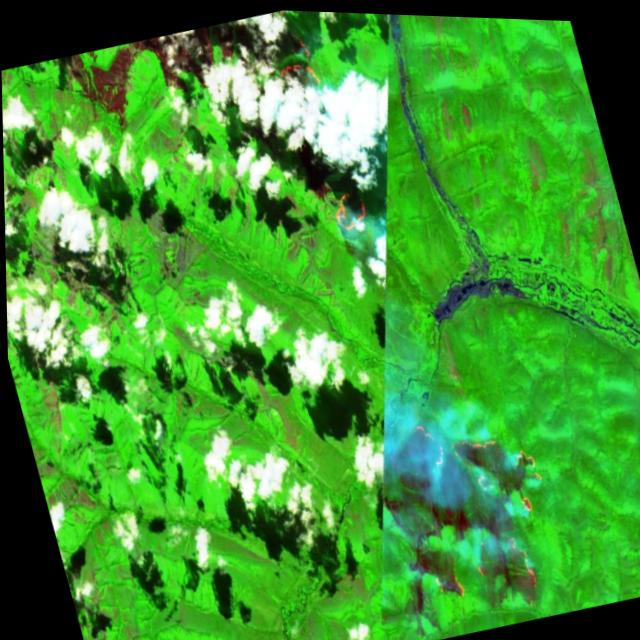fire: (370, 381, 576, 635), (258, 24, 333, 107), (321, 173, 375, 247)
